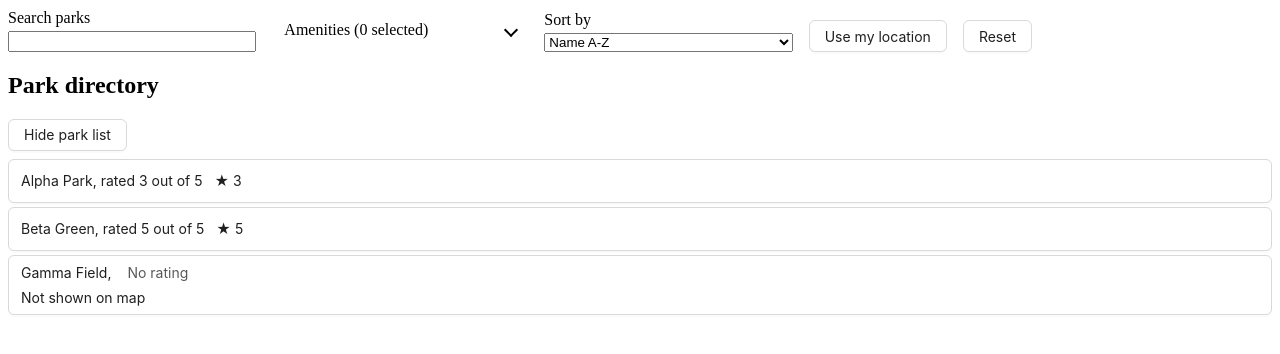
SearchBar › use my location › sorts by distance, offers the Distance option and announces
Click the button "Use my location" at {"x": 878, "y": 36}, box [809,20,947,52]
Wait 600 ms
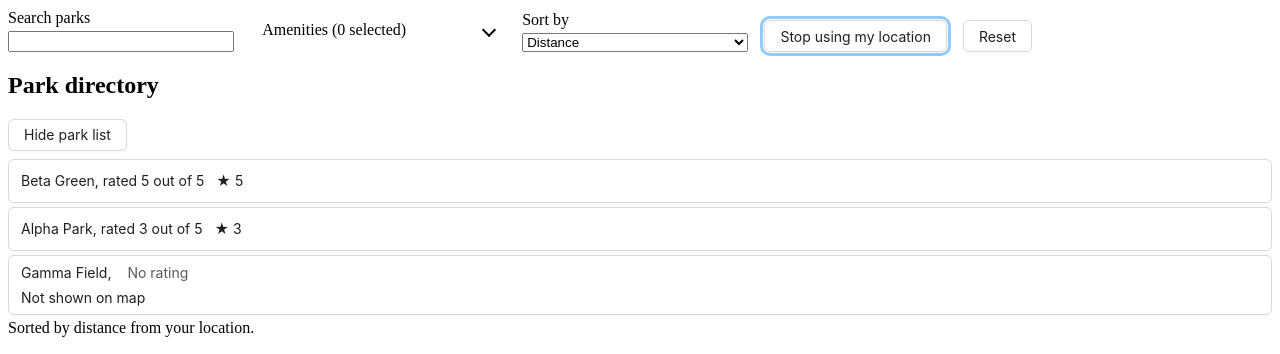
Expected: the button "Stop using my location" is shown, [764,20,947,52]
Expected: the dropdown labelled "Sort by" shows "Distance", [522,33,748,52]
Expected: the message reads "Sorted by distance from your location.", [8,319,254,336]
